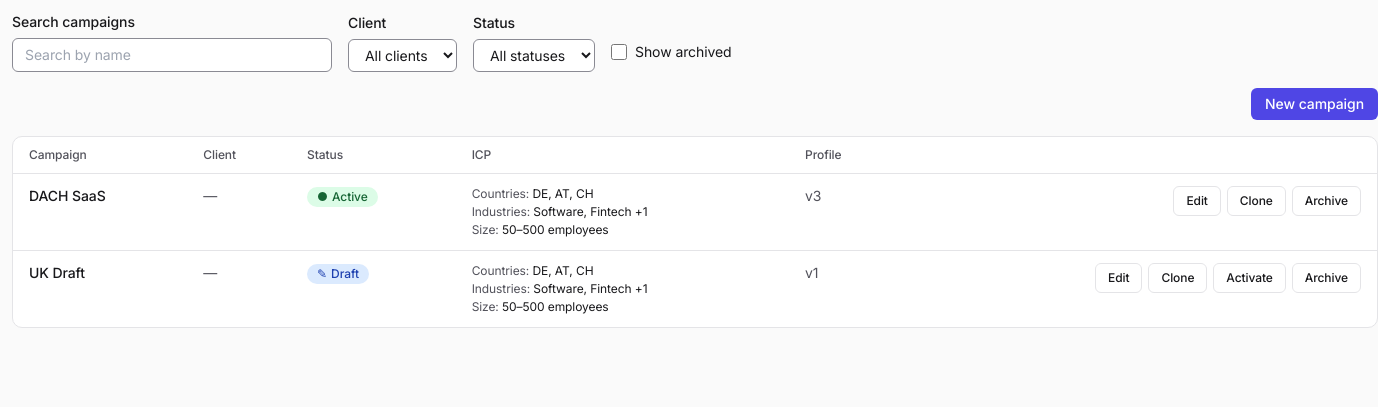
CampaignList › reports a failed clone and stays on the page
The width and height of the screenshot is (1378, 407).
Step 1. Click the button with aria-label "Clone DACH SaaS" → (1256, 201), box [1227,186,1286,216]
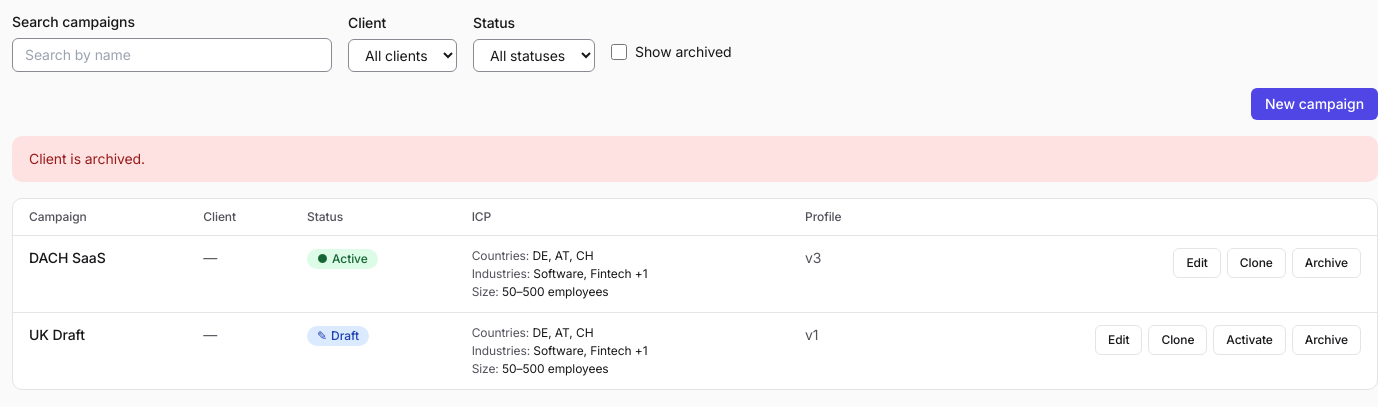
Now the message reads "Client is archived.", box [29,150,145,167]
